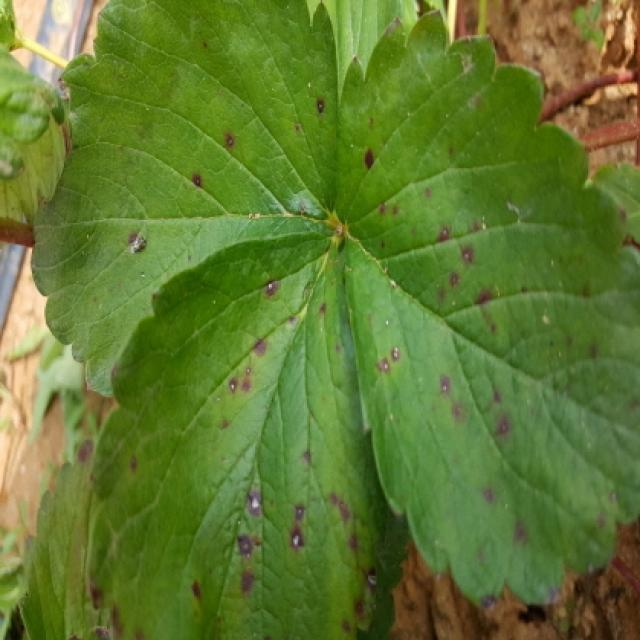Leaf Spot: (337, 9, 638, 608), (23, 0, 340, 399), (87, 231, 388, 638)
